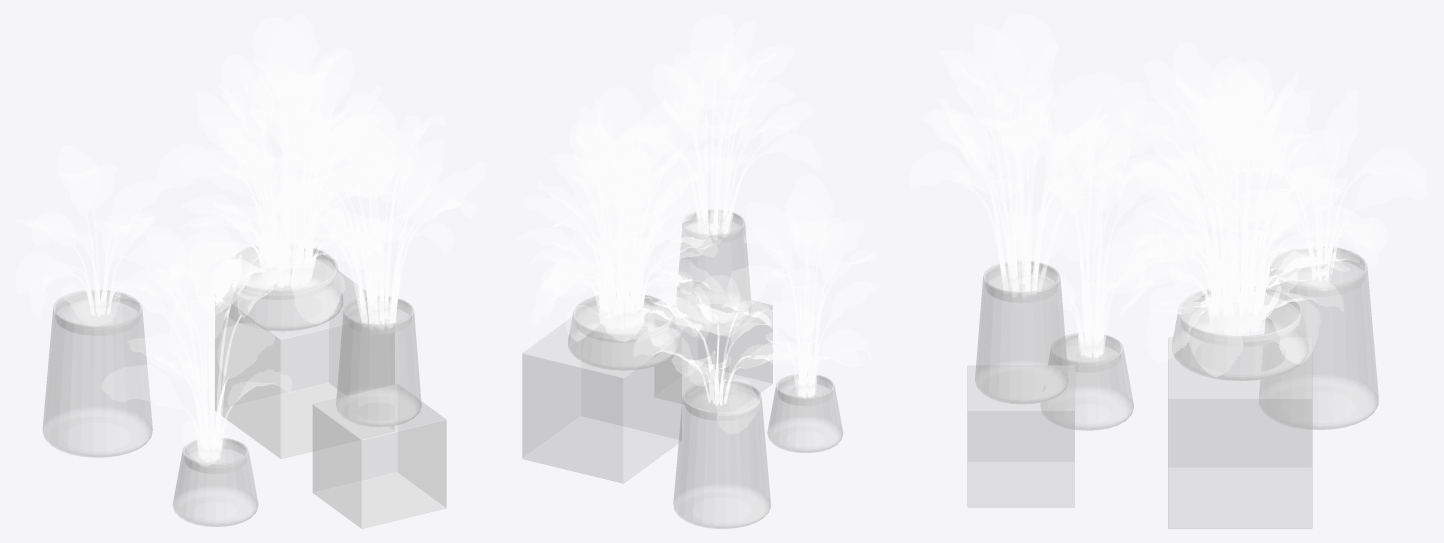
The model's file is plants_hq.glb.
3 views of the same model, side by side, from view 1: azimuth 30°, elevation 25°; view 2: azimuth 150°, elevation 25°; view 3: azimuth 270°, elevation 25° (orthographic). The views are drawn at different scales.
Visible parts, largest first — view 1: Bird_Of_ParadiseBird_Version04, Bird_Of_ParadiseBird_Version04_2, Bird_Of_ParadiseBird_Version04_3, Marble_White002, Marble_White001, Bird_Of_ParadiseBird_Version04_2_Vase003, Bird_Of_ParadiseBird_Version04_4, Bird_Of_ParadiseBird_Version04_2_Vase000, Bird_Of_ParadiseBird_Version04_2_Vase001, Bird_Of_ParadiseBird_Version04_2_Vase002; view 2: Bird_Of_ParadiseBird_Version04, Marble_White002, Bird_Of_ParadiseBird_Version04_2, Bird_Of_ParadiseBird_Version04_3, Bird_Of_ParadiseBird_Version04_4, Bird_Of_ParadiseBird_Version04_2_Vase003, Marble_White001, Bird_Of_ParadiseBird_Version04_2_Vase001, Bird_Of_ParadiseBird_Version04_2_Vase000, Bird_Of_ParadiseBird_Version04_2_Vase002; view 3: Bird_Of_ParadiseBird_Version04, Bird_Of_ParadiseBird_Version04_2, Marble_White002, Bird_Of_ParadiseBird_Version04_3, Marble_White001, Bird_Of_ParadiseBird_Version04_2_Vase003, Bird_Of_ParadiseBird_Version04_4, Bird_Of_ParadiseBird_Version04_2_Vase000, Bird_Of_ParadiseBird_Version04_2_Vase001, Bird_Of_ParadiseBird_Version04_2_Vase002.
Part boxes in pixels (x1,y1,x2,y2): Bird_Of_ParadiseBird_Version04: (155, 14, 406, 323); Bird_Of_ParadiseBird_Version04_2: (270, 92, 487, 328); Bird_Of_ParadiseBird_Version04_3: (101, 221, 294, 466); Marble_White002: (215, 269, 394, 458); Marble_White001: (313, 384, 446, 528); Bird_Of_ParadiseBird_Version04_2_Vase003: (43, 289, 152, 457); Bird_Of_ParadiseBird_Version04_4: (15, 145, 185, 326); Bird_Of_ParadiseBird_Version04_2_Vase000: (336, 296, 421, 426); Bird_Of_ParadiseBird_Version04_2_Vase001: (220, 246, 342, 330); Bird_Of_ParadiseBird_Version04_2_Vase002: (173, 438, 258, 526); Bird_Of_ParadiseBird_Version04: (517, 87, 722, 341); Marble_White002: (522, 317, 681, 483); Bird_Of_ParadiseBird_Version04_2: (620, 14, 822, 237); Bird_Of_ParadiseBird_Version04_3: (722, 174, 880, 397); Bird_Of_ParadiseBird_Version04_4: (633, 266, 813, 433); Bird_Of_ParadiseBird_Version04_2_Vase003: (673, 380, 770, 528); Marble_White001: (654, 300, 772, 411); Bird_Of_ParadiseBird_Version04_2_Vase001: (568, 293, 678, 370); Bird_Of_ParadiseBird_Version04_2_Vase000: (677, 209, 751, 325); Bird_Of_ParadiseBird_Version04_2_Vase002: (767, 374, 842, 452); Bird_Of_ParadiseBird_Version04: (1120, 42, 1372, 376); Bird_Of_ParadiseBird_Version04_2: (910, 14, 1166, 297); Marble_White002: (1168, 337, 1312, 528); Bird_Of_ParadiseBird_Version04_3: (1019, 82, 1177, 358); Marble_White001: (967, 365, 1074, 507); Bird_Of_ParadiseBird_Version04_2_Vase003: (1259, 246, 1378, 429); Bird_Of_ParadiseBird_Version04_4: (1223, 89, 1428, 292); Bird_Of_ParadiseBird_Version04_2_Vase000: (975, 261, 1068, 403); Bird_Of_ParadiseBird_Version04_2_Vase001: (1172, 288, 1308, 380); Bird_Of_ParadiseBird_Version04_2_Vase002: (1040, 333, 1133, 430).
Size of the model in its own units: 1743 by 2015 by 2131.
Materials: 5 (1 with a texture image).
